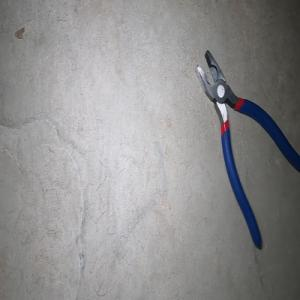Pliers: (194, 49, 300, 250)
